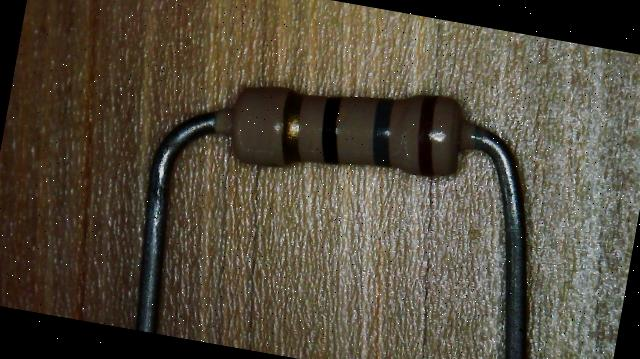black: (318, 95, 344, 164)
brown: (412, 94, 441, 175)
gold: (277, 92, 306, 164)
grey: (368, 98, 398, 166)
resistor: (199, 62, 489, 191)
